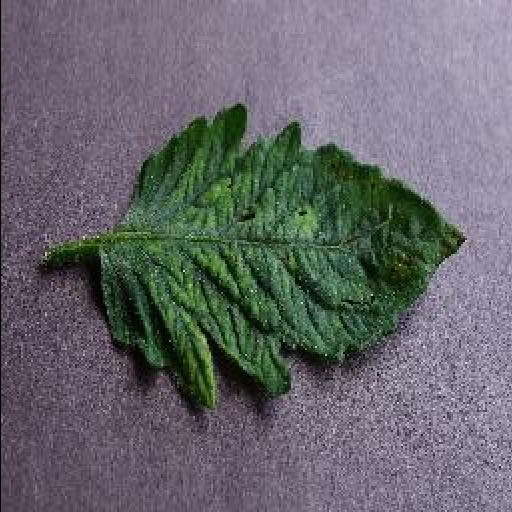disease_tomato: (97, 102, 467, 414)
